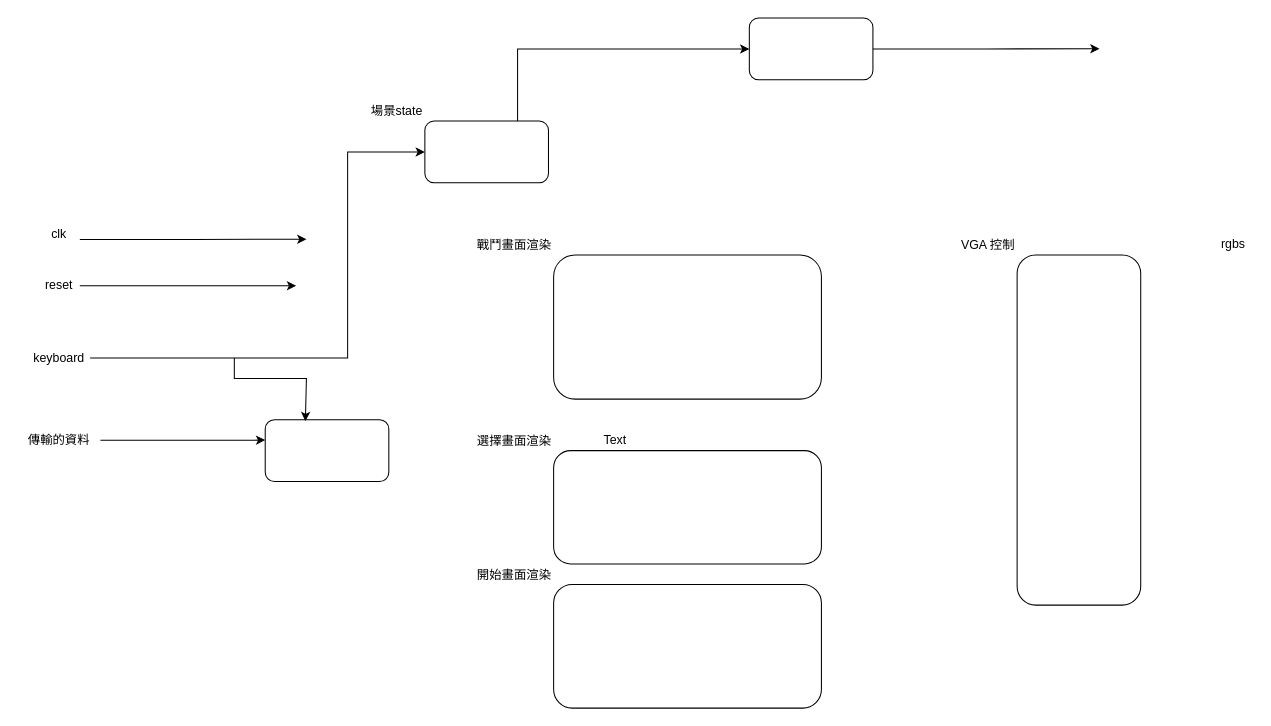
This 1271x726 diagram has some shape labels left out. Here are the shapes that lost their labels. From the top down, the box of each, then its label:
(748, 17, 873, 80): 場景音樂(雙聲道)
(264, 419, 389, 482): 數據控制
